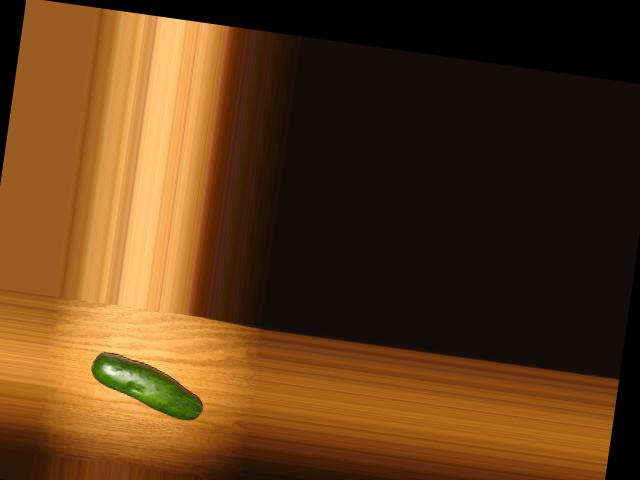cucumber: (88, 350, 209, 421)
